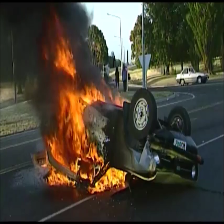fire_h: (40, 80, 109, 182), (43, 13, 76, 77), (89, 168, 127, 193), (47, 167, 76, 185)
fire_l: (109, 90, 131, 106), (41, 150, 54, 168)
